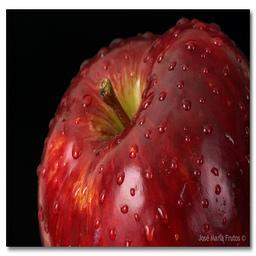apple: (36, 22, 250, 244)
